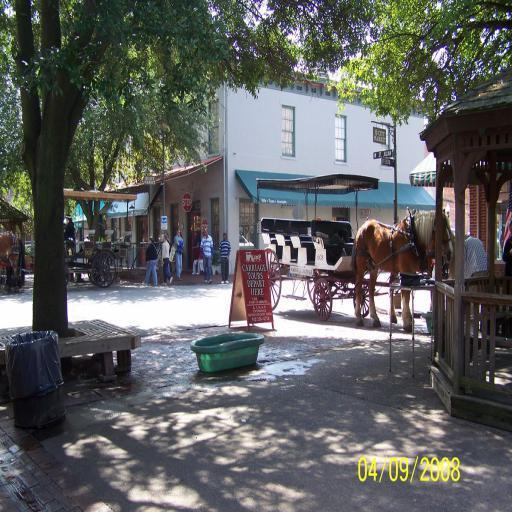horse: (352, 208, 456, 332)
